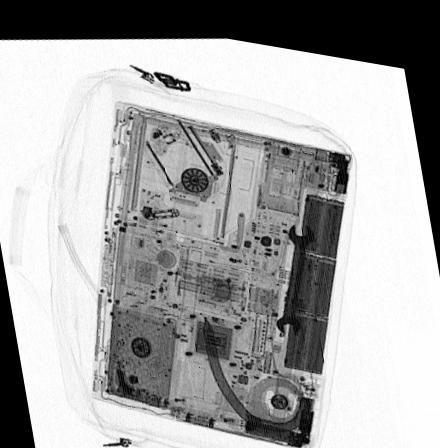Wrench: (274, 212, 317, 325)
